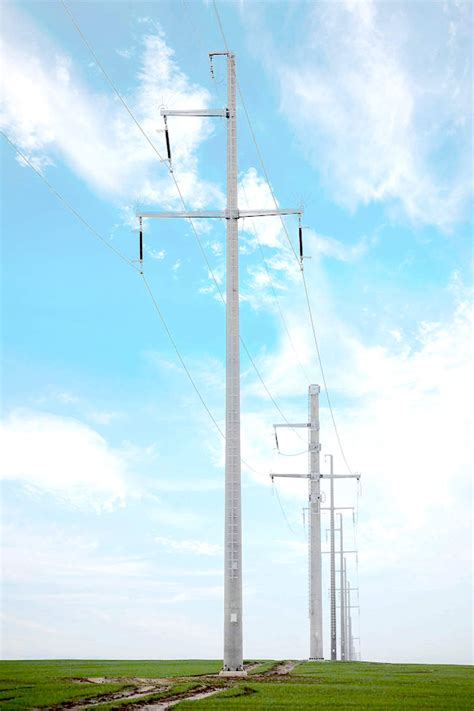pole: (128, 43, 303, 663), (269, 377, 361, 657), (305, 440, 372, 653)
